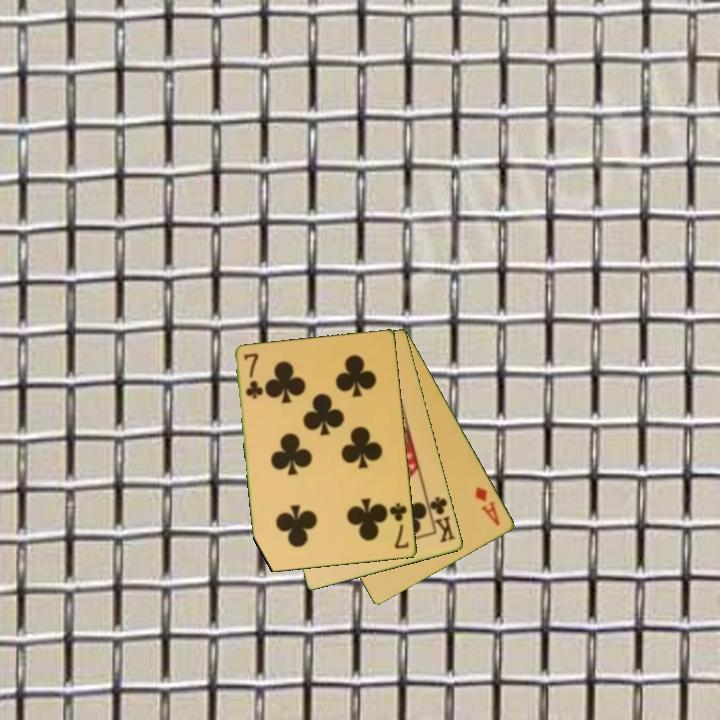7c: (386, 500, 412, 552), (241, 350, 265, 402)
Ad: (472, 483, 503, 529)
Kc: (424, 493, 458, 546)
